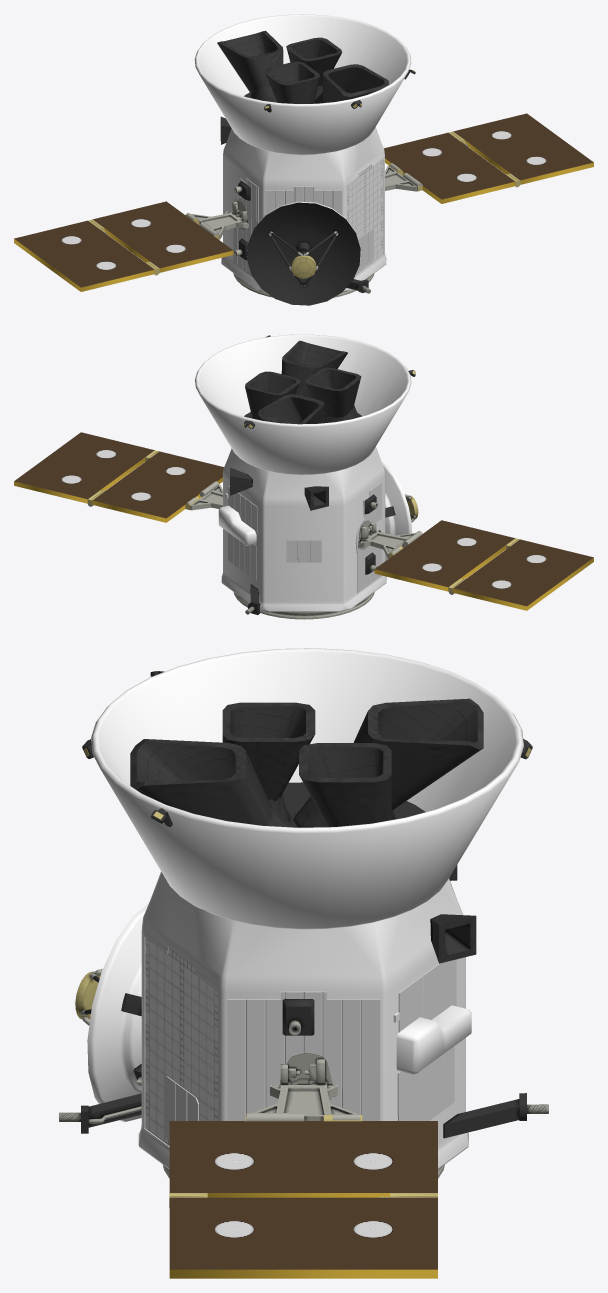
File: sc_tess.glb
3 views of the same model, one above another, from view 1: azimuth 30°, elevation 25°; view 2: azimuth 150°, elevation 25°; view 3: azimuth 270°, elevation 25° (orthographic). The views are drawn at different scales.
Visible parts, largest first — view 1: instruments, BUS, reflectors; view 2: BUS, instruments, reflectors; view 3: BUS, instruments, reflectors.
Boxes of the visible parts, left/top/right/bottom form: instruments: left=14, top=30, right=593, bottom=305; BUS: left=194, top=14, right=411, bottom=291; reflectors: left=233, top=178, right=373, bottom=275; BUS: left=195, top=334, right=412, bottom=611; instruments: left=14, top=335, right=593, bottom=619; reflectors: left=228, top=482, right=382, bottom=593; BUS: left=87, top=648, right=523, bottom=1168; instruments: left=59, top=671, right=548, bottom=1278; reflectors: left=164, top=959, right=456, bottom=1140.
Bounding box in the file's own units: 1.72 × 0.7228 × 0.7124.
Materials: 6 (2 with a texture image).
